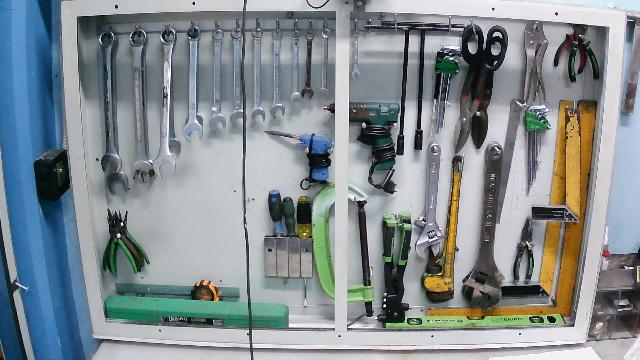kunci_l_bintang: (523, 103, 553, 197)
